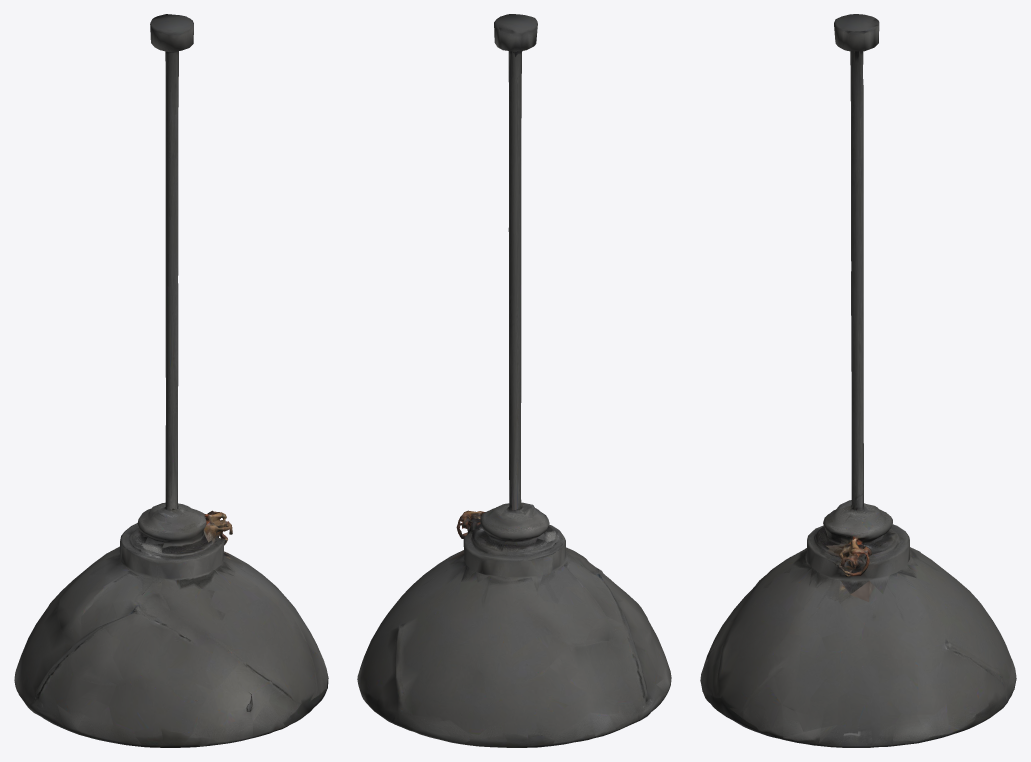
Rendered from lampara.obj.
The picture shows the model from 3 angles, left to right: view 1: azimuth 30°, elevation 25°; view 2: azimuth 150°, elevation 25°; view 3: azimuth 270°, elevation 25°; orthographic projection.
Parts seen in each view (by area): view 1: lamp_1; view 2: lamp_1; view 3: lamp_1.
Part boxes in pixels (left/top/right/bottom): lamp_1: left=14, top=14, right=328, bottom=747; lamp_1: left=357, top=14, right=671, bottom=747; lamp_1: left=700, top=14, right=1016, bottom=747.
Size of the model in its own units: 0.8627 by 2 by 0.869.
